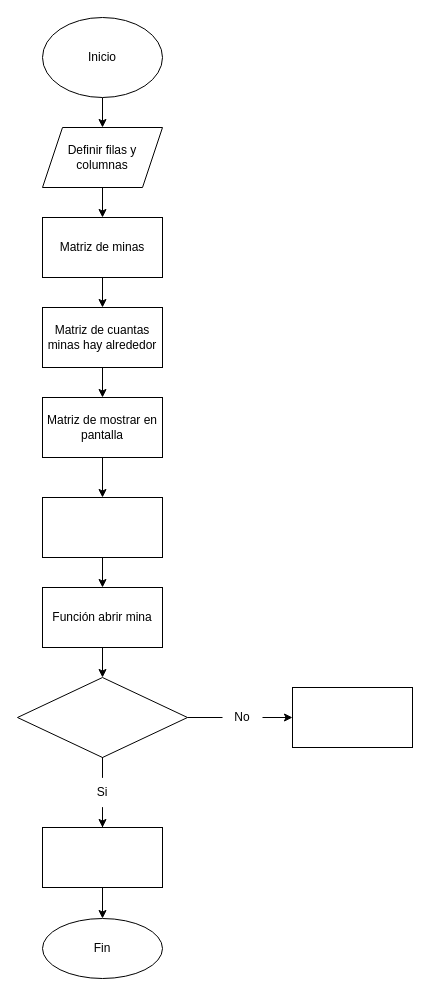
This 430x996 diagram has some shape labels left out. The box of each missing label's shape, as (x1, y1, x2, y2) in pixels:
Cambiar esa casilla a true: (292, 686, 412, 748)
Función imprimir matriz: (42, 496, 162, 558)
Función partida perdida: (42, 826, 162, 888)
¿Abrió una mina?: (16, 676, 188, 758)
